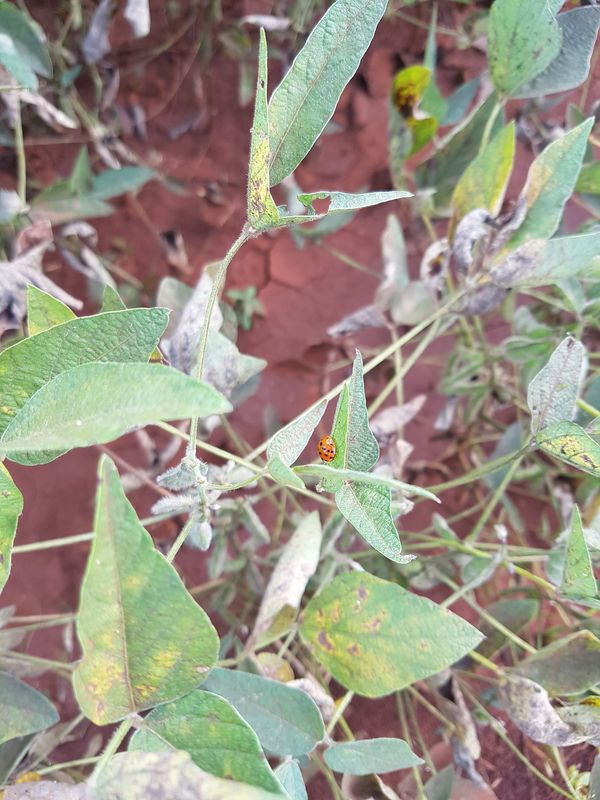Coccinellidae: (311, 432, 341, 469)
